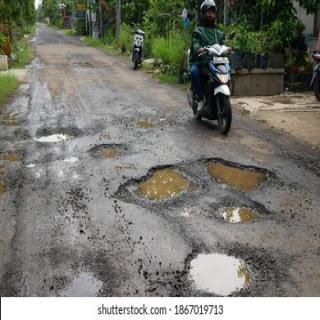pothole: (112, 158, 271, 223), (182, 251, 276, 297), (32, 124, 75, 148), (64, 274, 102, 298), (88, 144, 124, 158)
